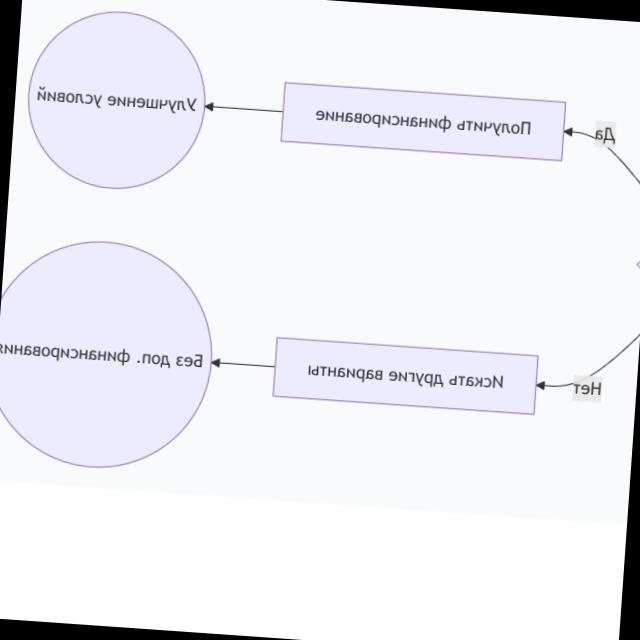arrow: (204, 99, 283, 118), (210, 354, 276, 373)
circle: (21, 3, 212, 195)
rectangle: (281, 82, 565, 160), (272, 338, 537, 414)
text_region: (572, 377, 602, 398), (594, 124, 616, 146)
